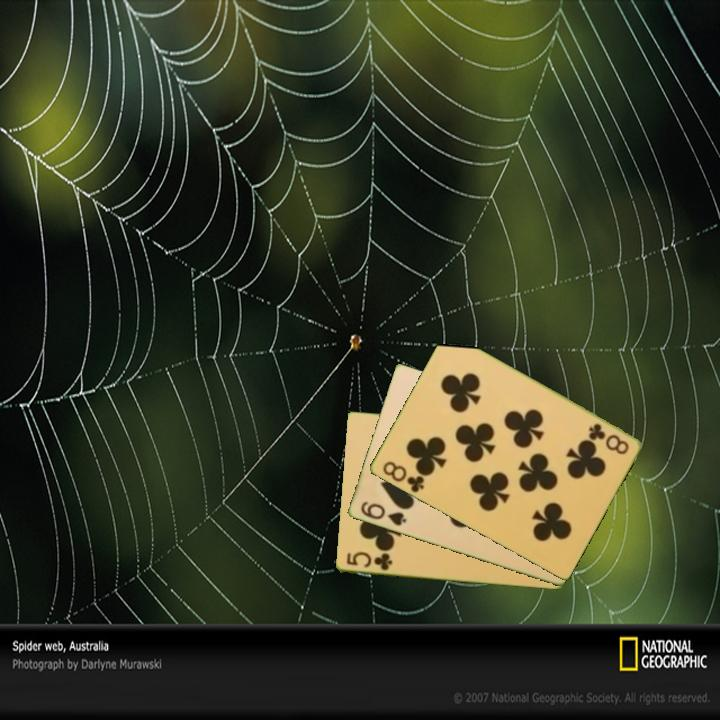5c: (343, 548, 395, 574)
6s: (357, 498, 409, 529)
8c: (379, 458, 427, 496), (584, 420, 632, 458)
